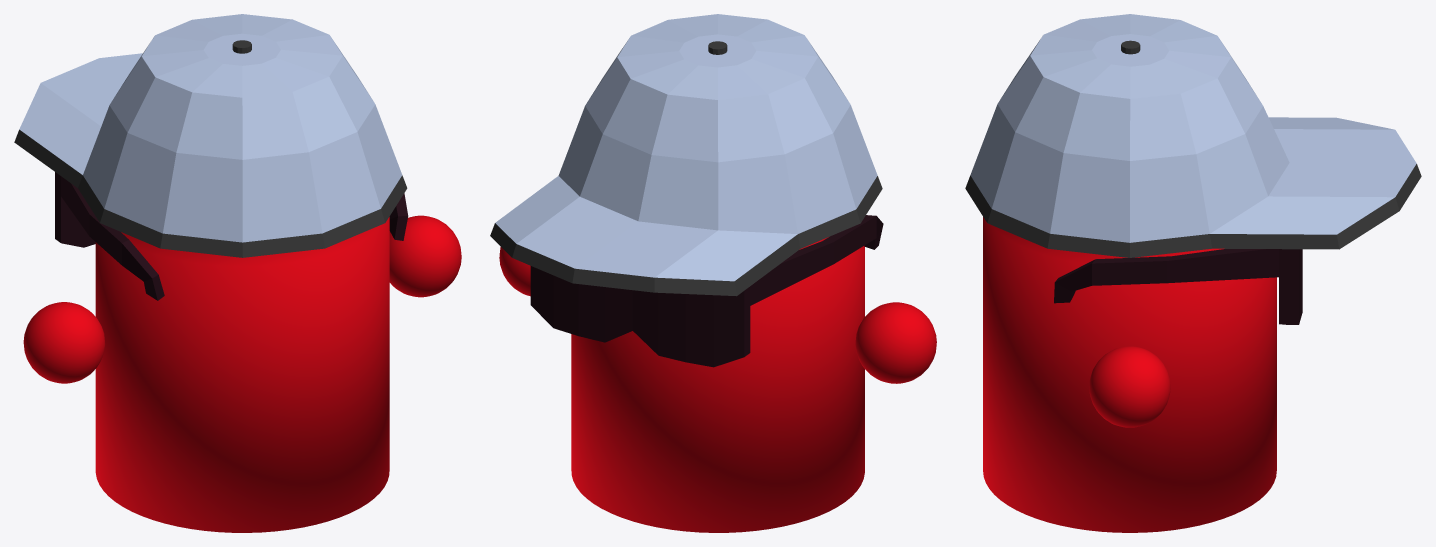
The model's file is agent2.fbx.
3 views of the same model, side by side, from view 1: azimuth 30°, elevation 25°; view 2: azimuth 150°, elevation 25°; view 3: azimuth 270°, elevation 25° (orthographic).
Parts seen in each view (by area): view 1: Body.001, Cone.001, RightHand.001, Sunglasses.001, LeftHand.001; view 2: Cone.001, Body.001, Sunglasses.001, RightHand.001, LeftHand.001; view 3: Cone.001, Body.001, Sunglasses.001, LeftHand.001.
Part boxes in pixels (<box>): Body.001: <box>95,217,389,532</box>; Cone.001: <box>14,14,407,257</box>; RightHand.001: <box>23,302,104,383</box>; Sunglasses.001: <box>55,172,408,300</box>; LeftHand.001: <box>389,215,461,297</box>; Cone.001: <box>490,14,882,296</box>; Body.001: <box>571,237,864,532</box>; Sunglasses.001: <box>530,215,883,367</box>; RightHand.001: <box>855,302,936,383</box>; LeftHand.001: <box>499,247,530,296</box>; Cone.001: <box>965,14,1421,257</box>; Body.001: <box>983,217,1276,532</box>; Sunglasses.001: <box>1054,249,1302,324</box>; LeftHand.001: <box>1089,346,1170,427</box>.
Bounding box in the file's own units: 3.36 × 3.2 × 3.11.
